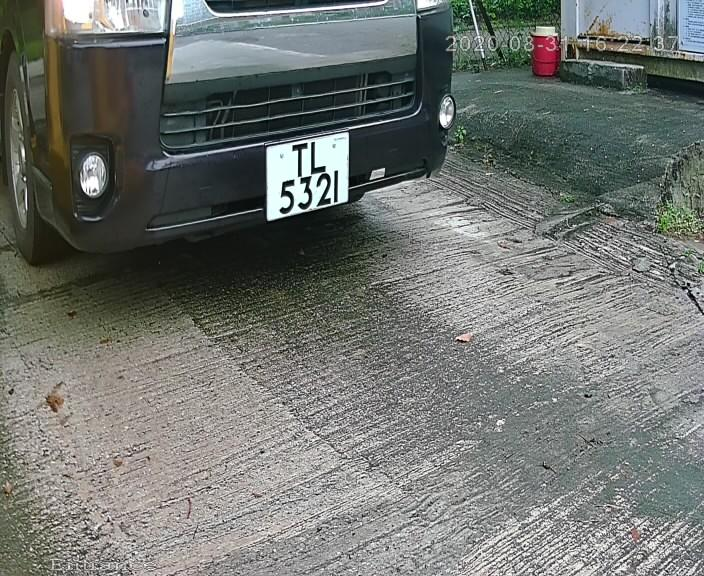Car: (26, 1, 510, 304)
License Plate: (258, 129, 365, 224)
